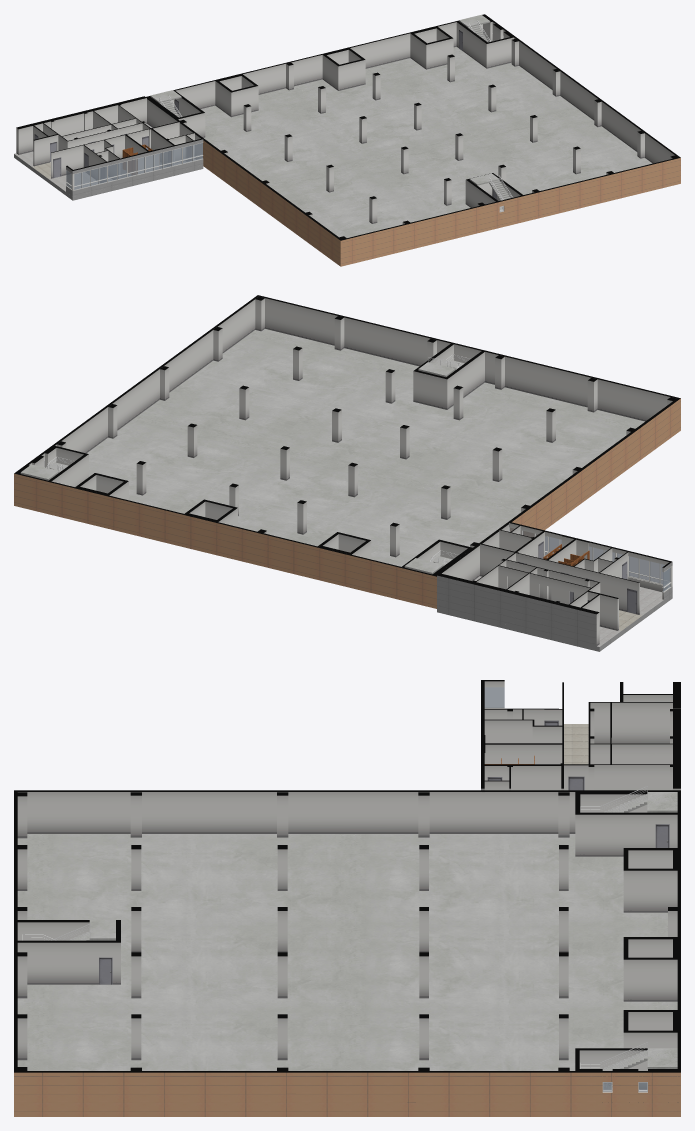
3 renders of one model, top to bottom at view 1: azimuth 30°, elevation 25°; view 2: azimuth 150°, elevation 25°; view 3: azimuth 270°, elevation 25°, orthographic. The views are drawn at different scales.
Visible parts, largest first — view 1: Line1553, Box2065, Box707, Rectangle1225, Box644, Line189, Box2111; view 2: Line1553, Box2065, Box707, Line189, Rectangle1225, Box644, Box2111; view 3: Line1553, Box2065, Box707, Line189, Box2060, Box2079.
Boxes of the visible parts, x1,y1,x2,y2 form: Line1553: (200,47,652,237); Box2065: (146,14,680,266); Box707: (16,96,194,182); Rectangle1225: (66,138,203,196); Box644: (66,143,202,189); Line189: (14,123,203,200); Box2111: (34,133,190,182); Line1553: (86,329,644,566); Box2065: (14,295,680,608); Box707: (437,525,639,646); Line189: (437,576,672,651); Rectangle1225: (509,522,672,599); Box644: (509,527,670,591); Box2111: (518,541,637,614); Line1553: (17,834,677,1070); Box2065: (14,790,680,1116); Box707: (484,682,680,790); Line189: (564,724,588,764); Box2060: (99,824,669,984); Box2079: (647,792,677,812).
Bounding box in the file's own units: 56.88 × 3.9 × 41.02.
Materials: 13 (10 with a texture image).
